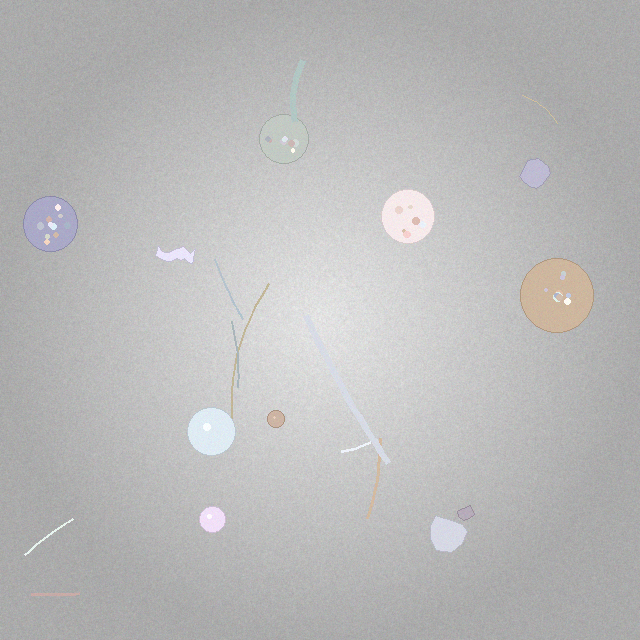fiber: (300, 309, 395, 469), (229, 282, 271, 434), (22, 517, 75, 558), (212, 257, 244, 320), (364, 435, 384, 522), (286, 55, 309, 128), (520, 94, 560, 126), (228, 319, 241, 390), (338, 439, 374, 455), (28, 590, 83, 598)
film: (156, 245, 196, 264)
foam: (520, 259, 594, 332), (23, 197, 78, 251), (381, 190, 435, 243), (260, 115, 308, 164)
fragment: (430, 516, 468, 552), (520, 158, 550, 188), (457, 505, 475, 521)
pellet: (188, 408, 236, 455), (200, 507, 225, 532), (268, 411, 284, 427)
